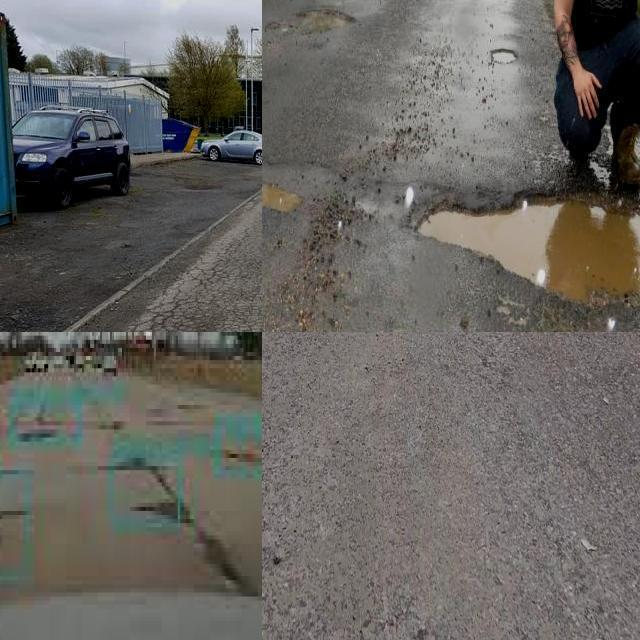Pothole: (414, 191, 640, 308), (262, 182, 304, 214), (299, 10, 352, 32), (491, 49, 517, 63)
